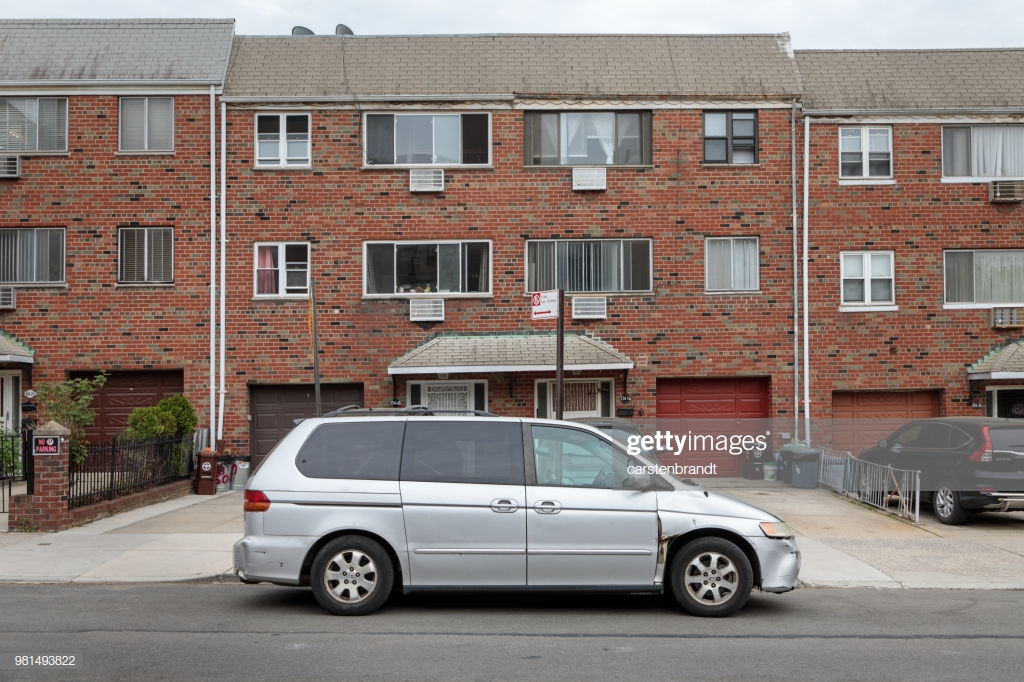car: (234, 422, 798, 624)
